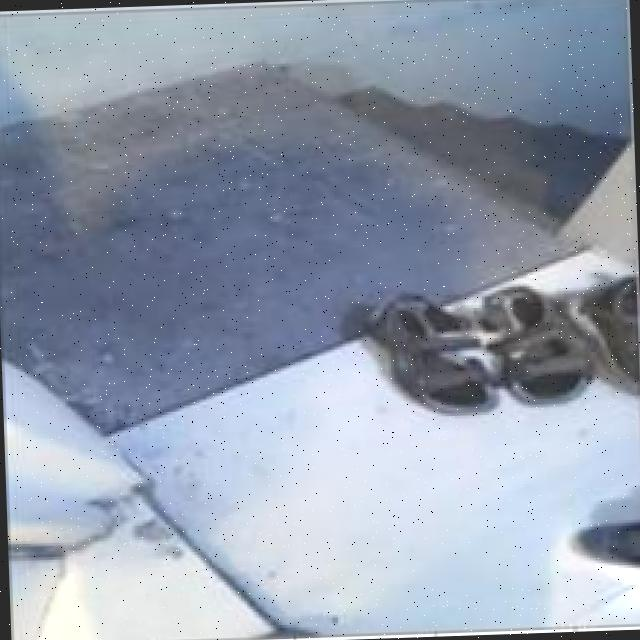stairs: (311, 0, 619, 280)
